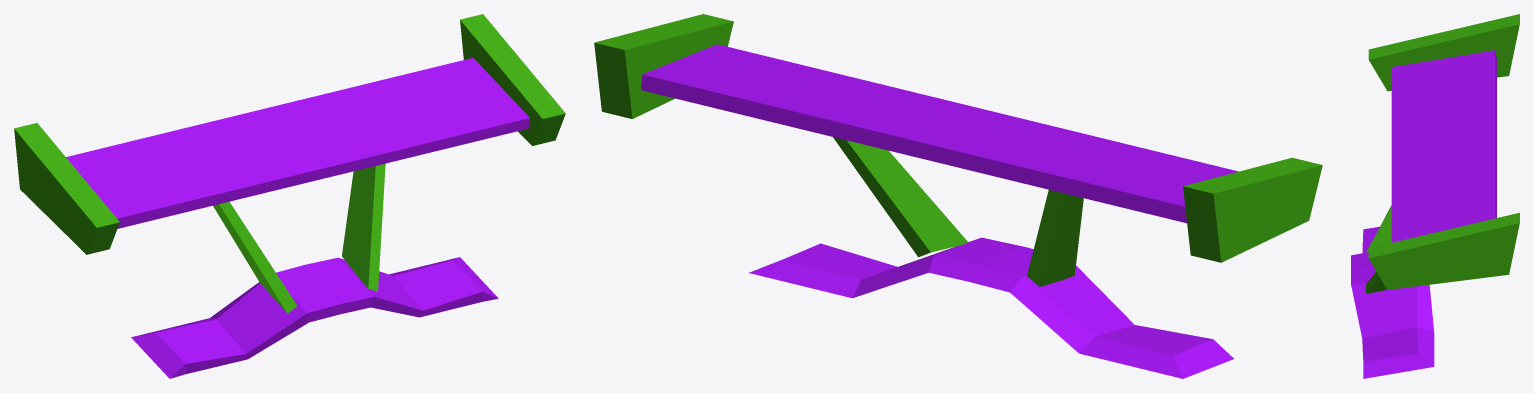
The model's file is LuxSpoiler00C03.gltf.
3 renders of one model, left to right at view 1: azimuth 30°, elevation 25°; view 2: azimuth 150°, elevation 25°; view 3: azimuth 270°, elevation 25°, orthographic. The views are drawn at different scales.
Parts seen in each view (by area): view 1: LuxSpoiler00C03; view 2: LuxSpoiler00C03; view 3: LuxSpoiler00C03.
Boxes of the visible parts, x1=… form: LuxSpoiler00C03: x1=14, y1=14, x2=565, y2=378; LuxSpoiler00C03: x1=594, y1=14, x2=1322, y2=378; LuxSpoiler00C03: x1=1351, y1=14, x2=1519, y2=378.
Bounding box in the file's own units: 0.1729 × 0.0722 × 0.059.
1 material, 1 textured.
